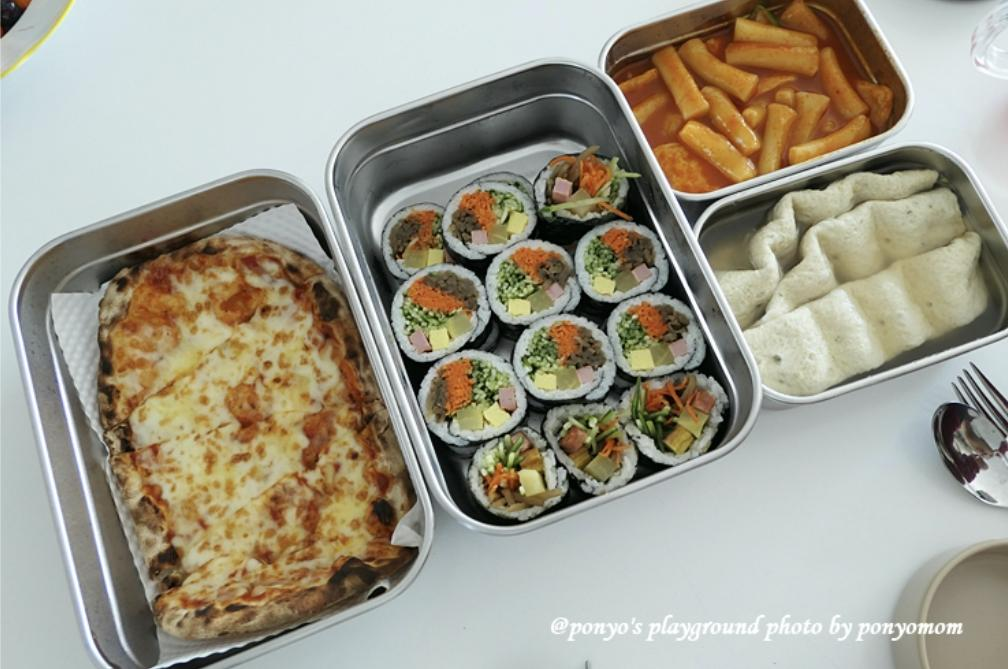Lunch Box: (10, 170, 432, 668), (326, 60, 762, 535), (694, 144, 1007, 407), (600, 0, 911, 198)
